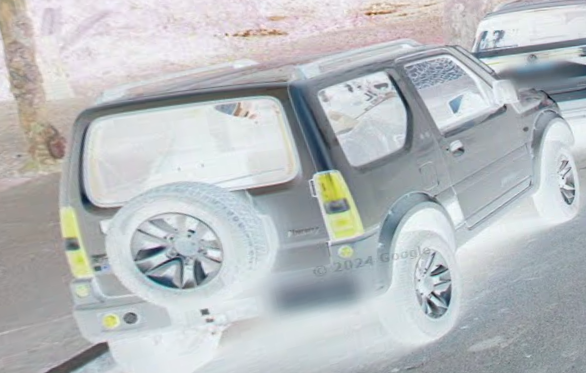car: (51, 34, 578, 356)
